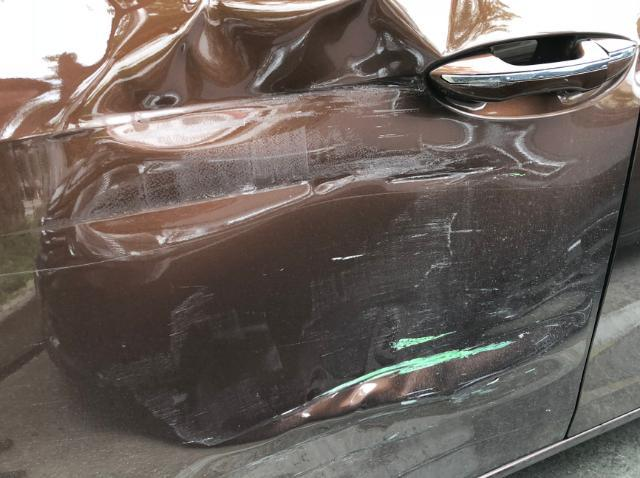Door: (11, 0, 640, 457)
